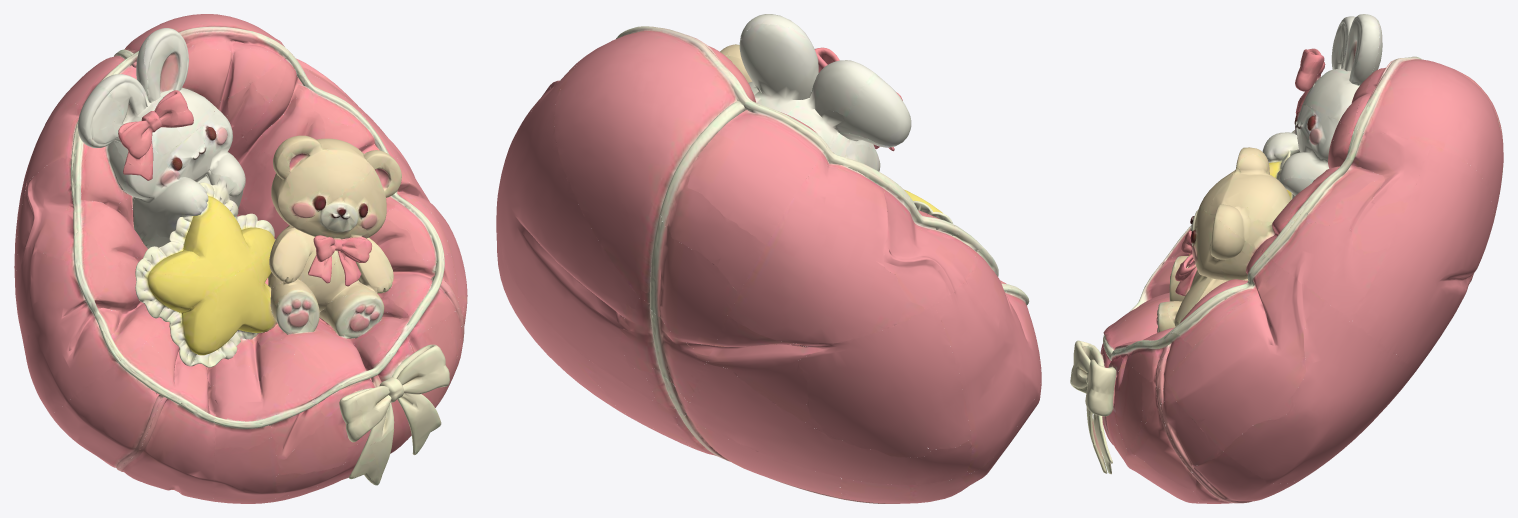
File: sofa.glb
3 views of the same model, side by side, from view 1: azimuth 30°, elevation 25°; view 2: azimuth 150°, elevation 25°; view 3: azimuth 270°, elevation 25° (orthographic). The views are drawn at different scales.
Visible parts, largest first — view 1: tripo_node_8ac473f5-c7e1-4078-a213-3dfbc14f33b4; view 2: tripo_node_8ac473f5-c7e1-4078-a213-3dfbc14f33b4; view 3: tripo_node_8ac473f5-c7e1-4078-a213-3dfbc14f33b4.
Boxes of the visible parts, bbox=[...] form: tripo_node_8ac473f5-c7e1-4078-a213-3dfbc14f33b4: bbox=[14, 14, 467, 503]; tripo_node_8ac473f5-c7e1-4078-a213-3dfbc14f33b4: bbox=[496, 14, 1041, 503]; tripo_node_8ac473f5-c7e1-4078-a213-3dfbc14f33b4: bbox=[1070, 14, 1503, 503].
Bounding box in the file's own units: 0.9787 × 0.9767 × 0.8823.
1 material, 1 textured.
